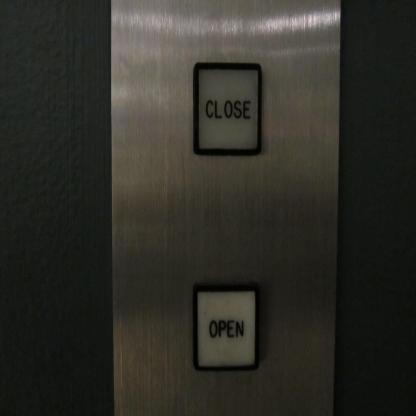text_close door: (191, 60, 264, 158)
text_open door: (190, 280, 262, 374)
